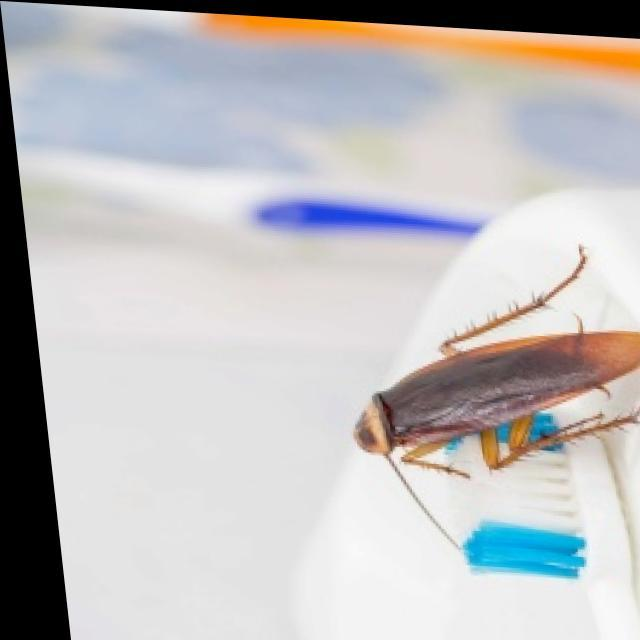cockroach: (339, 271, 639, 534)
